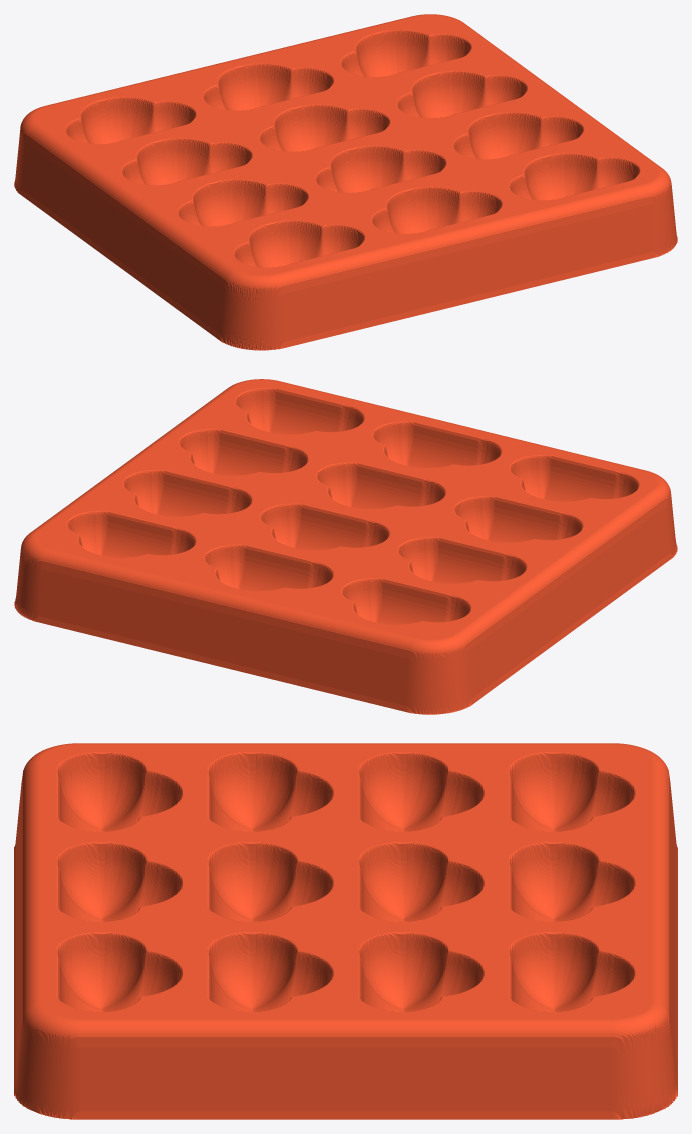
File: mold.glb
3 views of the same model, one above another, from view 1: azimuth 30°, elevation 25°; view 2: azimuth 150°, elevation 25°; view 3: azimuth 270°, elevation 25° (orthographic). The views are drawn at different scales.
Visible parts, largest first — view 1: geometry_0; view 2: geometry_0; view 3: geometry_0.
Boxes of the visible parts, bbox=[...] form: geometry_0: bbox=[14, 14, 677, 350]; geometry_0: bbox=[14, 379, 677, 714]; geometry_0: bbox=[14, 743, 677, 1119].
Bounding box in the file's own units: 0.0963 × 0.0136 × 0.0913.
